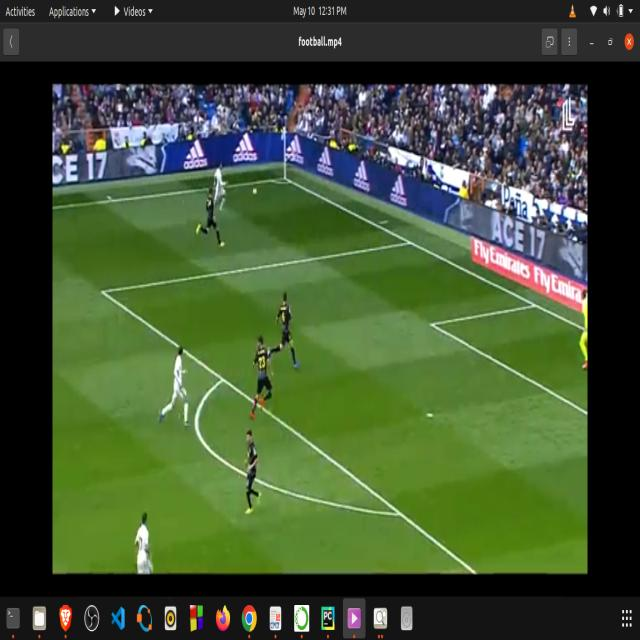Ball: (248, 179, 261, 203)
Goalkeeper: (577, 280, 588, 378)
football-players: (157, 336, 197, 434), (249, 327, 283, 416), (238, 421, 267, 524), (270, 290, 306, 371), (192, 185, 226, 253), (130, 509, 160, 574), (211, 160, 229, 211)
